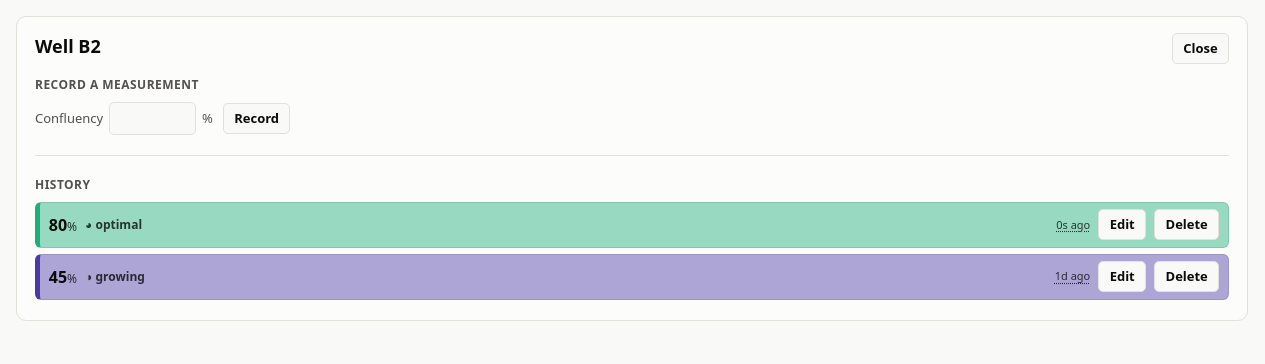
Test: WellPanel — recording a measurement › shows the 422 message on the field instead of an alert
The image size is (1265, 364).
Expected: the text "80" is shown, [49,214,67,236]
Type "101" into the number field labelled "Confluency" at (153, 119), box [109,102,196,135]
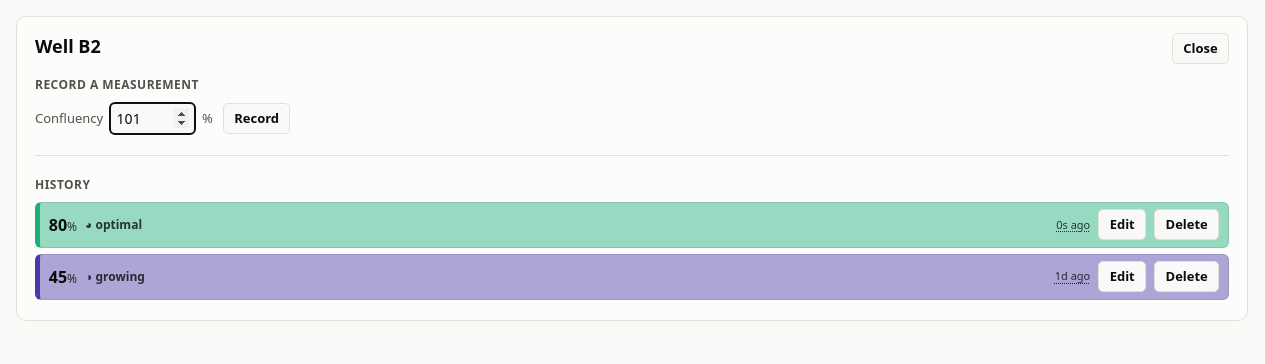
Click the button "Record" at (257, 119), box [223,103,290,134]
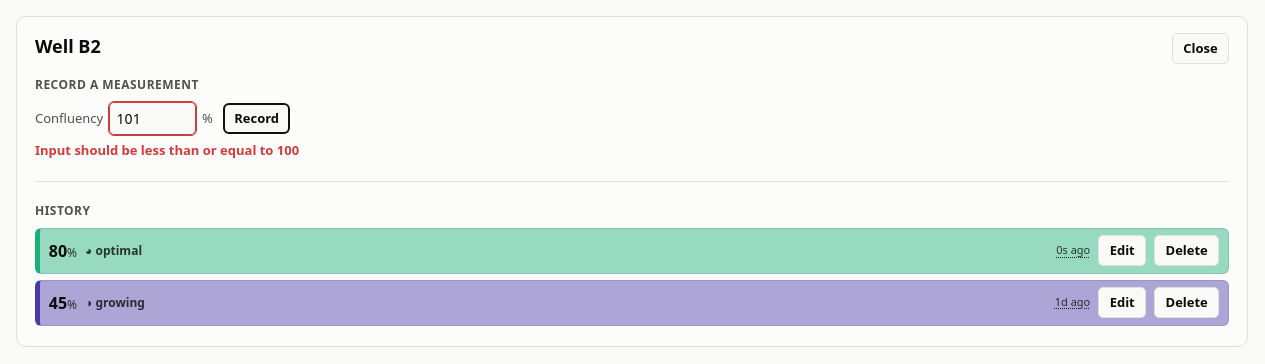
Now the text "Input should be less than or equal to 100" is shown, box [35,141,299,159]
